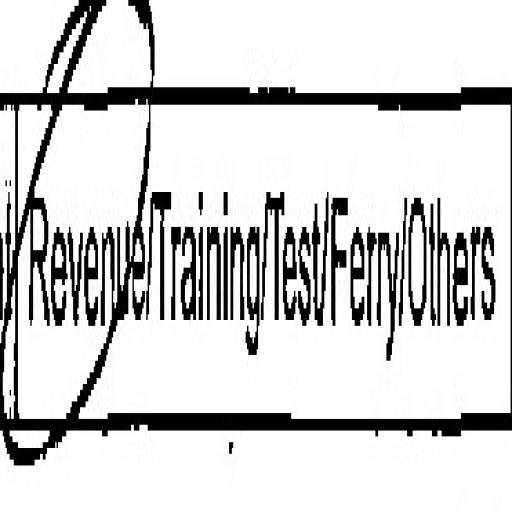check: (0, 0, 151, 492)
